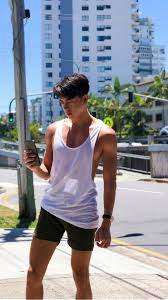people: (23, 73, 117, 300)
